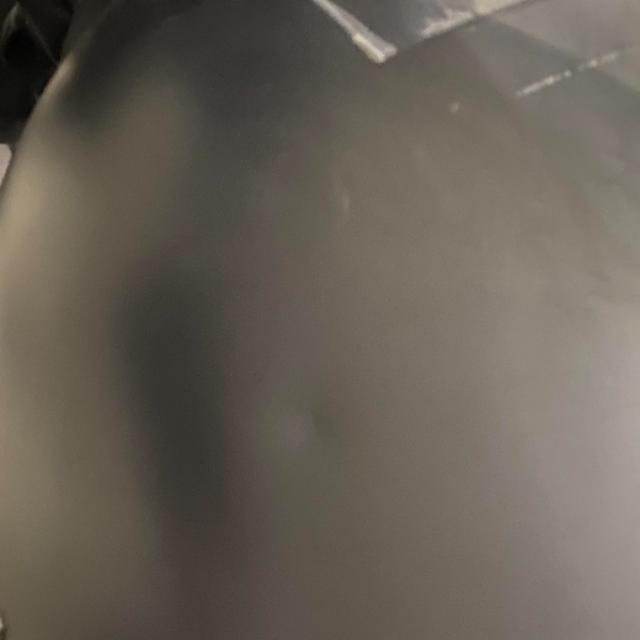dents: (263, 370, 374, 480)
